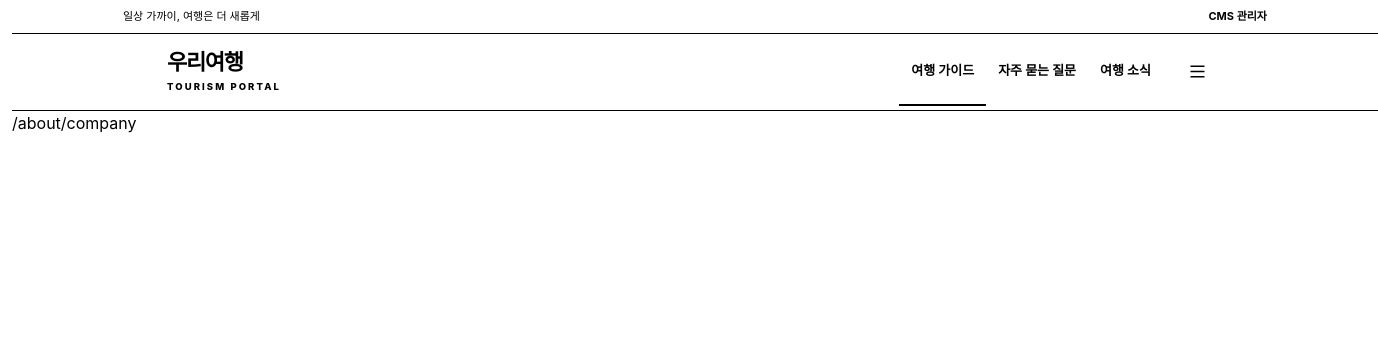
Test: the complete sitemap supports a touch button, keyboard focus and Escape
The image size is (1378, 338).
Click the button named "전체 메뉴 열기": (1197, 72) top-left (1175, 50), bottom-right (1219, 94)
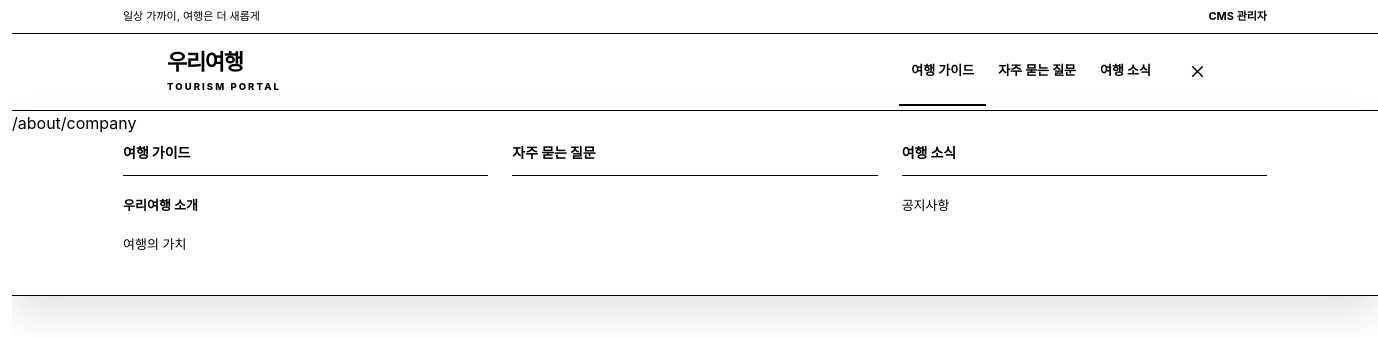
Check: the button named "전체 메뉴 열기" is expanded
Press Escape in the button named "전체 메뉴 열기", box top-left (1175, 50), bottom-right (1219, 94)
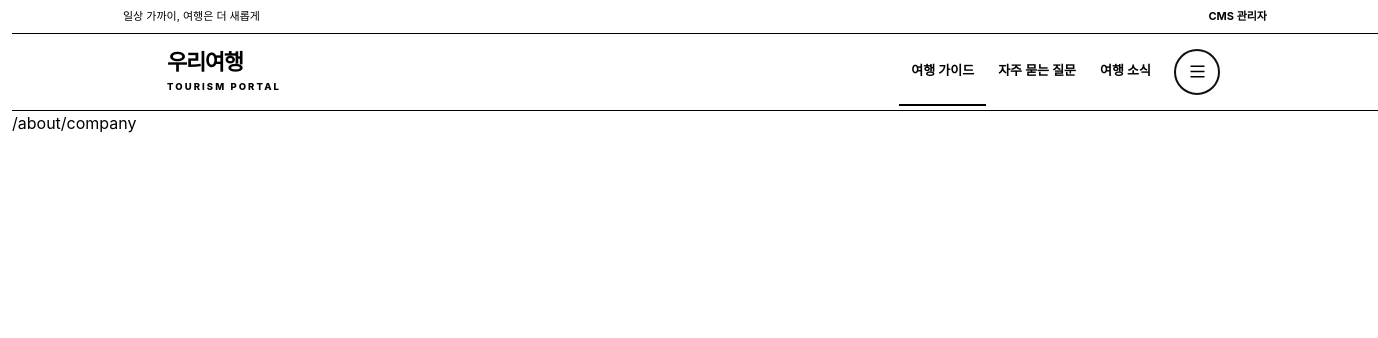
Check: the button named "전체 메뉴 열기" is collapsed, box top-left (1175, 50), bottom-right (1219, 94)
Focus the link "여행 가이드": (943, 72) top-left (899, 37), bottom-right (986, 106)
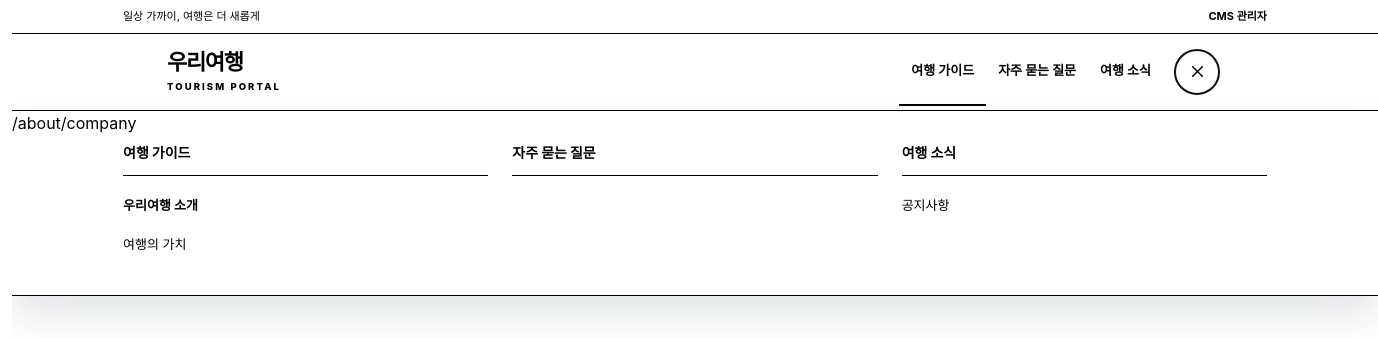
Check: the navigation bar named "전체 사이트맵" is shown, box top-left (12, 110), bottom-right (1377, 296)
